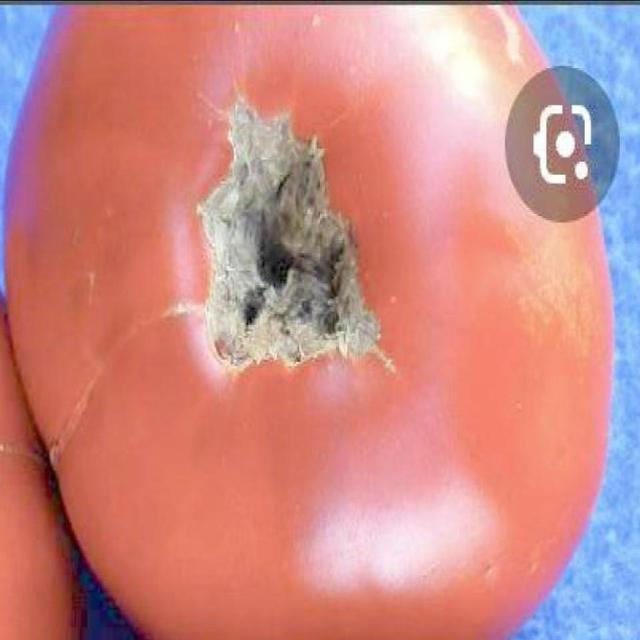Blossom End Rot Fruit: (126, 62, 256, 248)
